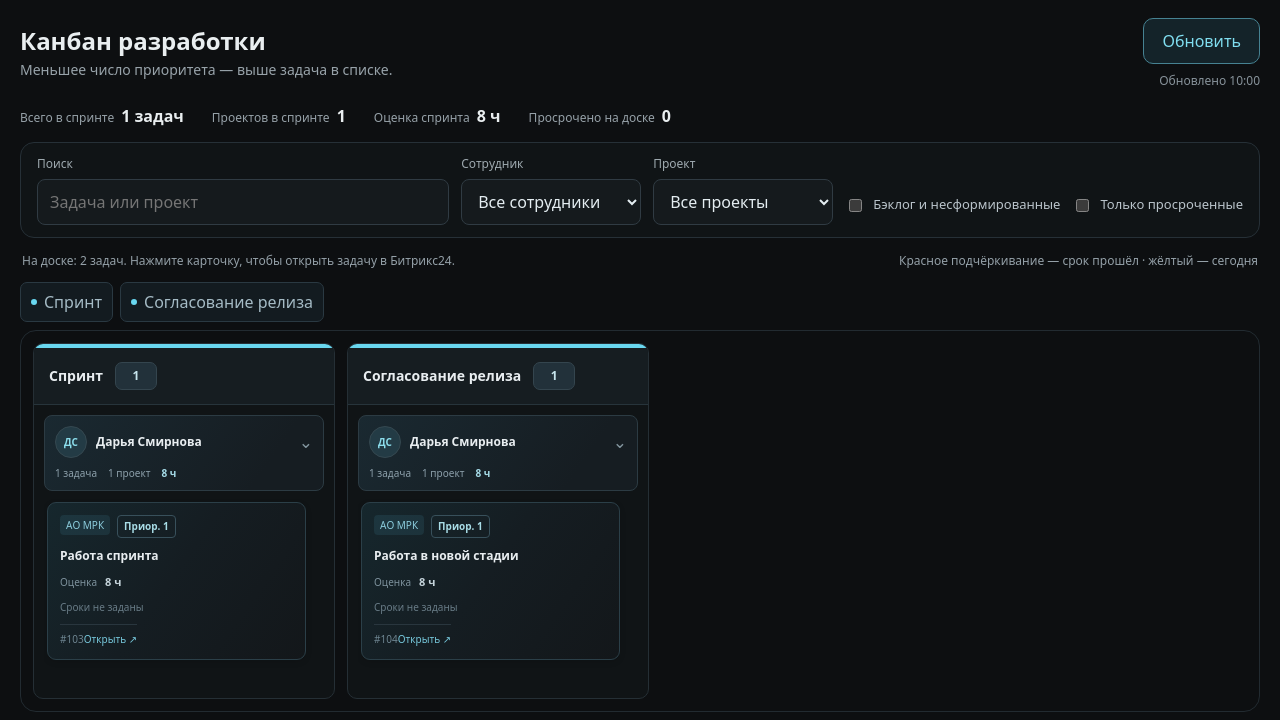
it: development kanban workspace › shows new active native stages by default and adds only backlog and unformed work when toggled
This screenshot has width=1280, height=720.
Check: the element named "Стадия: Спринт" is shown, box left=33, top=343, right=335, bottom=699
Check: the element named "Стадия: Согласование релиза" is shown, box left=347, top=343, right=649, bottom=699
What coordinates should you click on to do the following:
click the checkbox labelled "Бэклог и несформированные"
I would click on:
 (856, 205)
Its box is left=849, top=198, right=862, bottom=212.
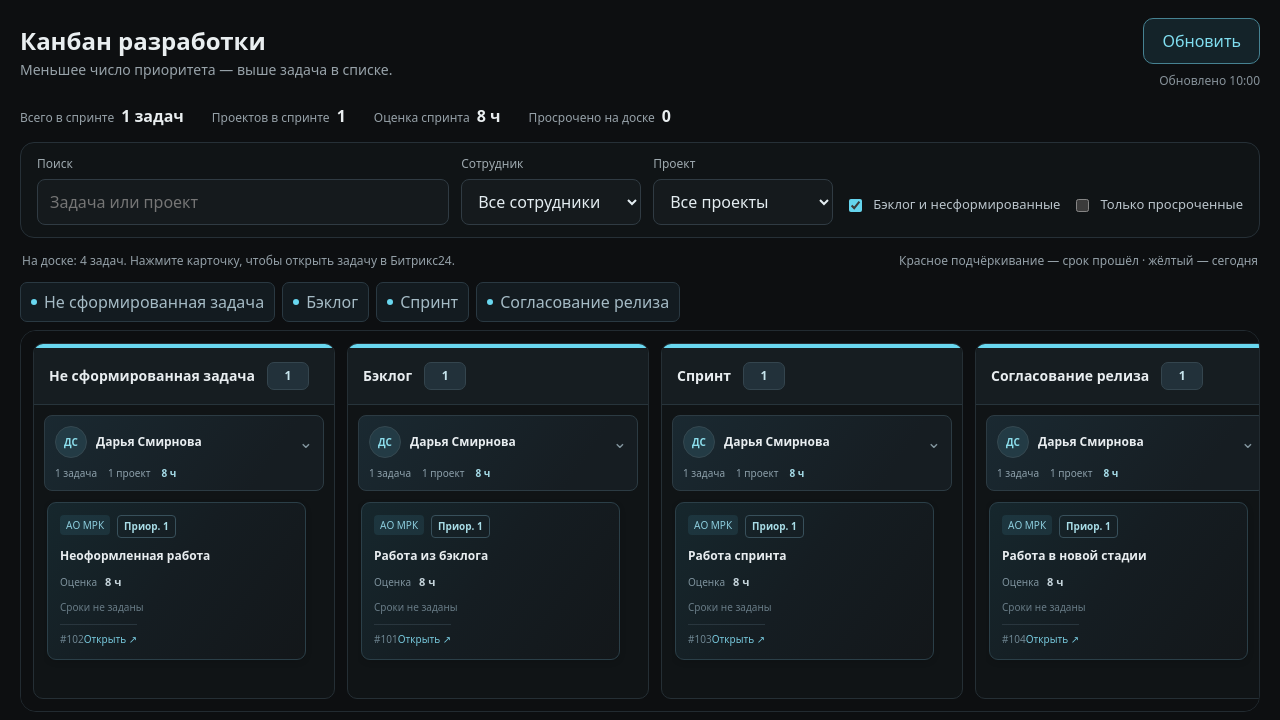
Check: the element named "Стадия: Бэклог" is shown, box left=347, top=343, right=649, bottom=699
Check: the element named "Стадия: Не сформированная задача" is shown, box left=33, top=343, right=335, bottom=699
Check: the number of buttons named "Открыть задачу:" is 4, box left=47, top=502, right=306, bottom=660; left=361, top=502, right=620, bottom=660; left=675, top=502, right=934, bottom=660; left=989, top=502, right=1248, bottom=660
